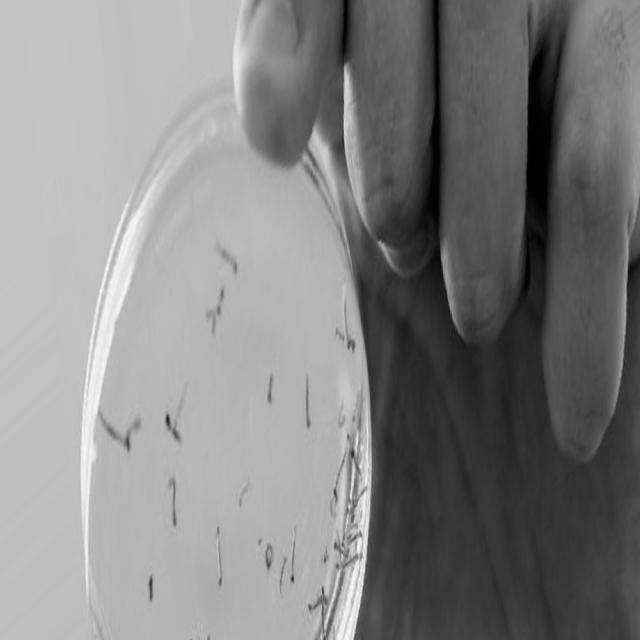larvas: (328, 432, 351, 508), (213, 235, 243, 280), (99, 409, 124, 447), (348, 480, 369, 519), (165, 411, 183, 444), (334, 552, 361, 574), (341, 293, 351, 351), (304, 378, 314, 434), (215, 526, 223, 585), (169, 479, 179, 524), (278, 554, 288, 594), (264, 372, 276, 404), (126, 417, 140, 444), (346, 527, 363, 548), (333, 539, 349, 561), (350, 449, 363, 476), (290, 530, 296, 582), (216, 285, 226, 316), (238, 478, 249, 503), (321, 588, 326, 632), (266, 546, 275, 570), (351, 393, 358, 423), (338, 403, 346, 428), (306, 599, 320, 613), (334, 327, 344, 345), (207, 310, 216, 330), (340, 526, 347, 545), (328, 502, 336, 516), (323, 546, 328, 564)
